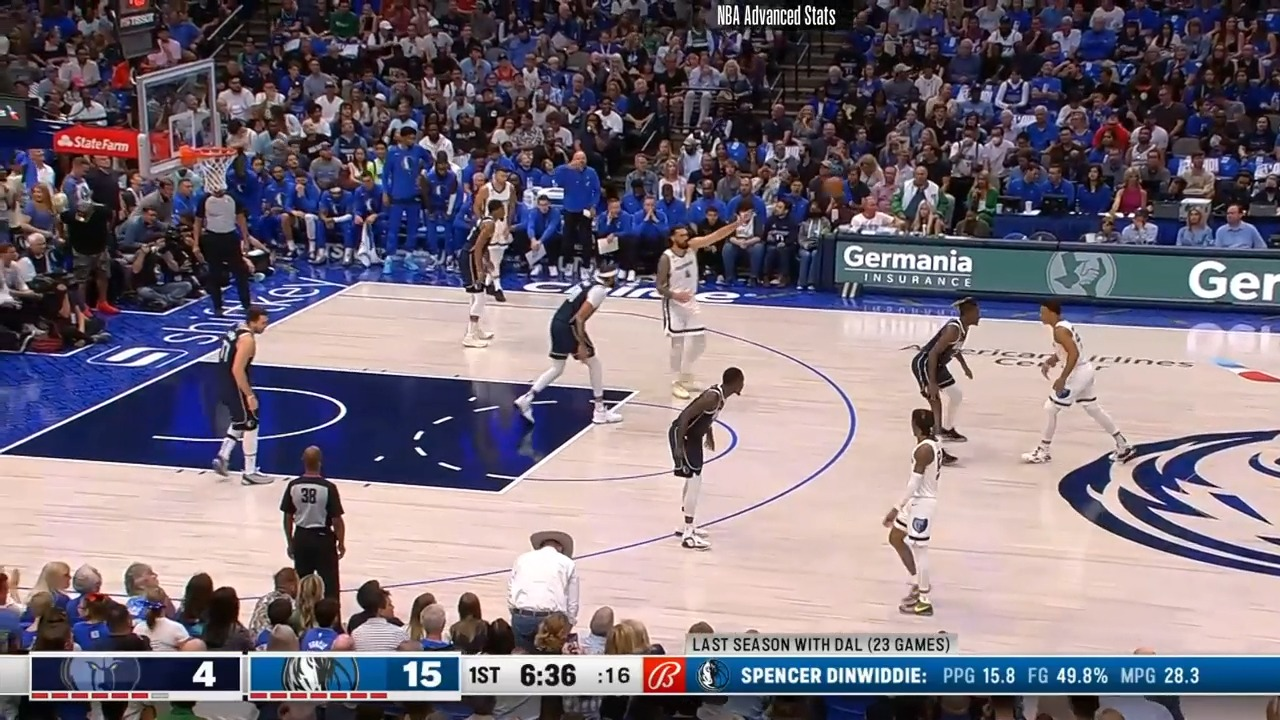net: (176, 142, 237, 192)
player: (655, 206, 758, 395), (517, 270, 629, 434), (1024, 296, 1131, 466), (882, 407, 965, 614), (666, 368, 753, 555), (217, 303, 282, 488), (911, 295, 986, 443), (455, 196, 509, 357), (475, 166, 520, 311)
referee: (277, 443, 348, 600), (198, 179, 266, 319)
